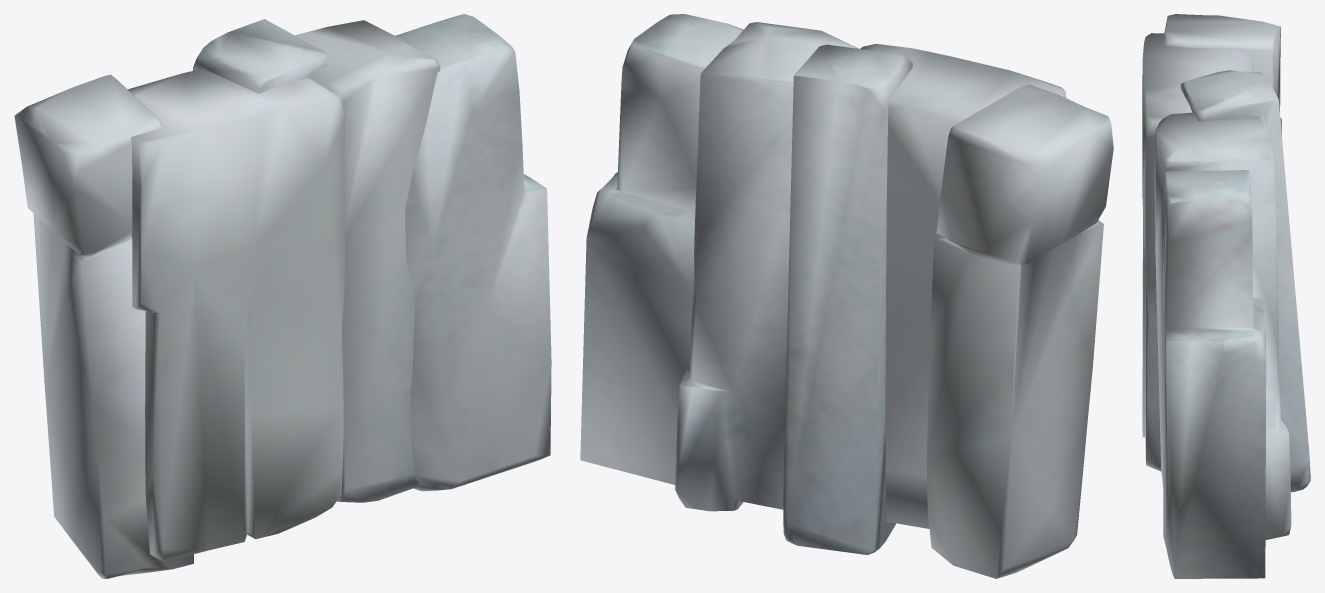
The model's file is P_CubicCliff11.obj.
3 views of the same model, side by side, from view 1: azimuth 30°, elevation 25°; view 2: azimuth 150°, elevation 25°; view 3: azimuth 270°, elevation 25° (orthographic). The views are drawn at different scales.
Size of the model in its own units: 54.75 by 50.15 by 19.14.
